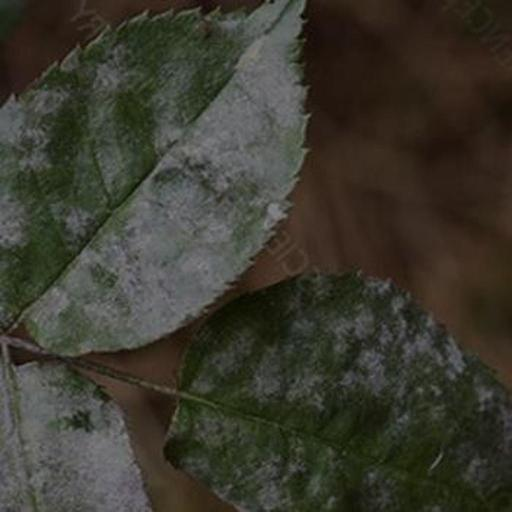powdery_mildew: (0, 0, 306, 354), (164, 274, 512, 512), (0, 349, 152, 512)
